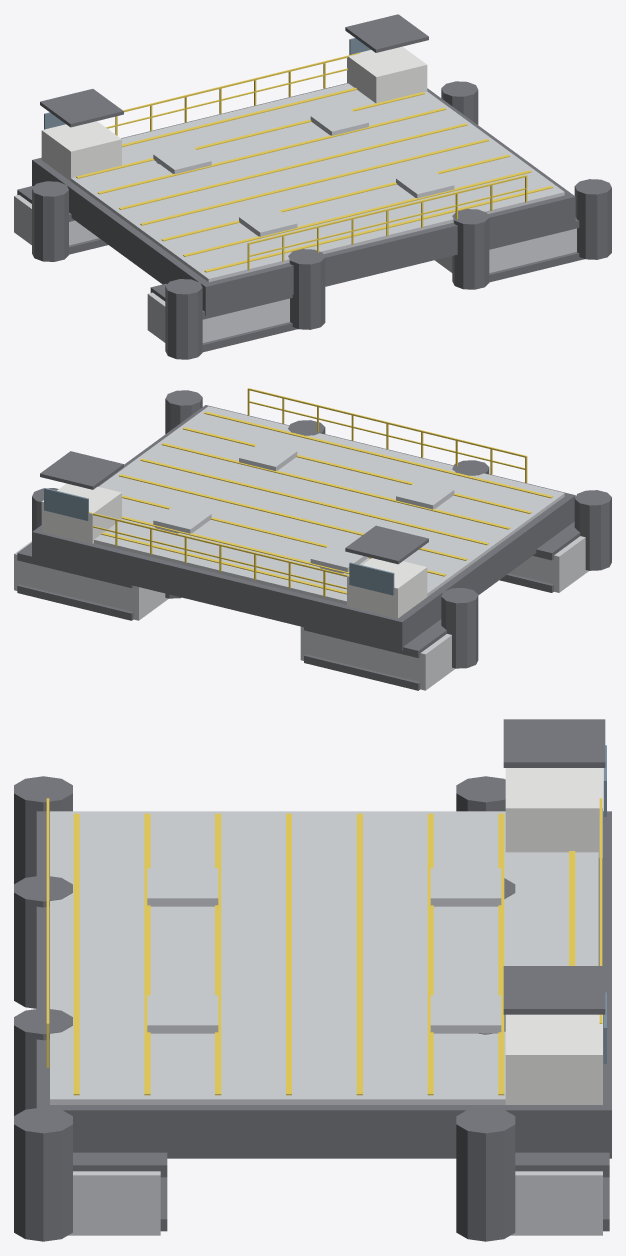
File: crawler.glb
3 renders of one model, top to bottom at view 1: azimuth 30°, elevation 25°; view 2: azimuth 150°, elevation 25°; view 3: azimuth 270°, elevation 25°, orthographic. The views are drawn at different scales.
Visible parts, largest first — view 1: crawler-transporter-deck; view 2: crawler-transporter-deck; view 3: crawler-transporter-deck.
Boxes of the visible parts, x1=… form: crawler-transporter-deck: x1=14, y1=14, x2=611, y2=359; crawler-transporter-deck: x1=14, y1=388, x2=611, y2=690; crawler-transporter-deck: x1=14, y1=719, x2=611, y2=1241.
Bounding box in the file's own units: 19.1 × 5.11 × 13.52.
